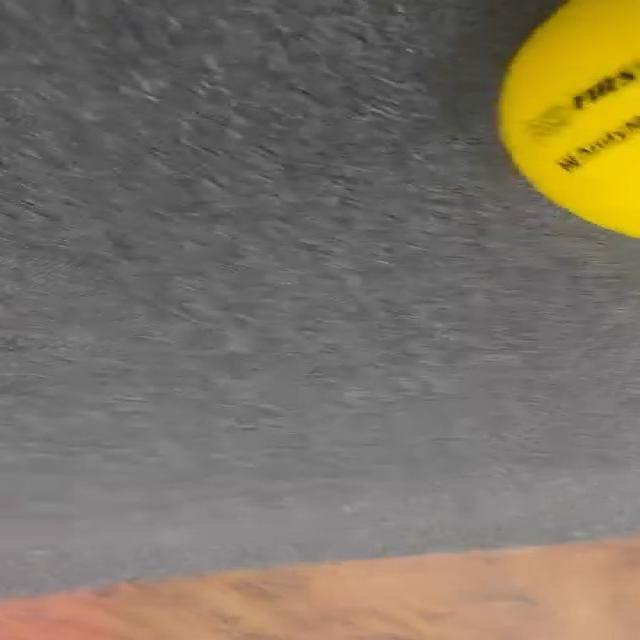Fuels: (498, 0, 640, 236)
